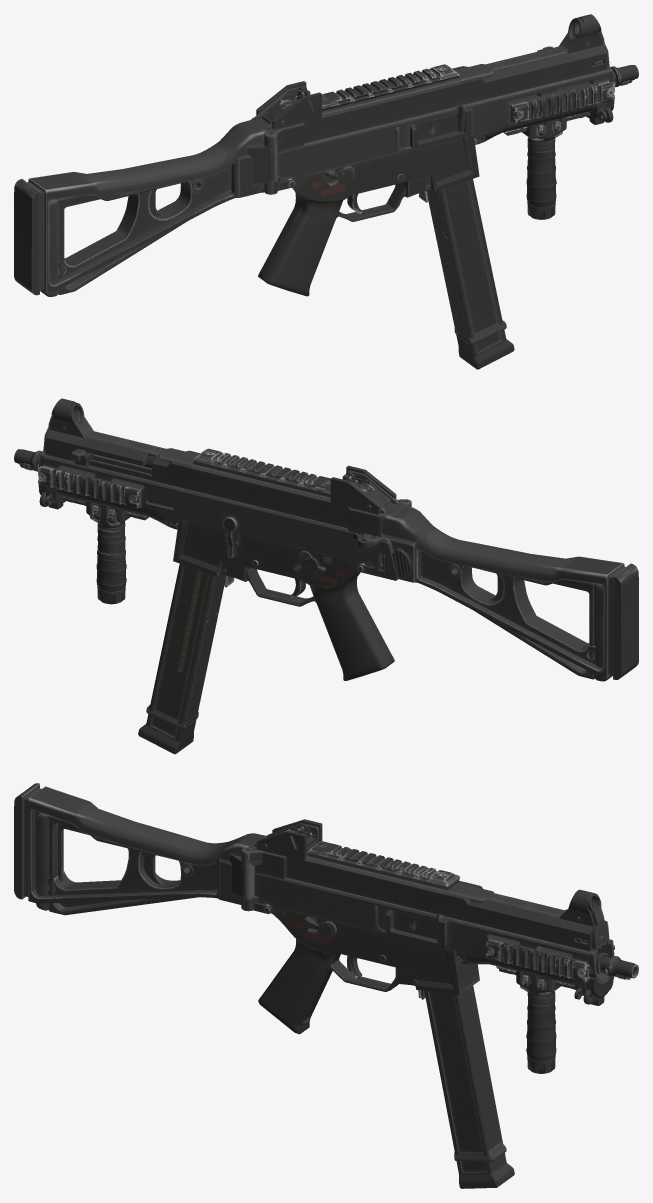
The model's file is weapon_ump45.glb.
3 views of the same model, one above another, from view 1: azimuth 30°, elevation 25°; view 2: azimuth 150°, elevation 25°; view 3: azimuth 330°, elevation 25° (orthographic).
Visible parts, largest first — view 1: weapons/models/ump45/weapon_smg_ump45.vmdl_c.body_legacy, weapons/models/ump45/weapon_smg_ump45.vmdl_c.body_hd; view 2: weapons/models/ump45/weapon_smg_ump45.vmdl_c.body_legacy, weapons/models/ump45/weapon_smg_ump45.vmdl_c.body_hd; view 3: weapons/models/ump45/weapon_smg_ump45.vmdl_c.body_legacy, weapons/models/ump45/weapon_smg_ump45.vmdl_c.body_hd.
Boxes of the visible parts, x1=… form: weapons/models/ump45/weapon_smg_ump45.vmdl_c.body_legacy: x1=14, y1=17, x2=632, y2=369; weapons/models/ump45/weapon_smg_ump45.vmdl_c.body_hd: x1=40, y1=14, x2=638, y2=344; weapons/models/ump45/weapon_smg_ump45.vmdl_c.body_legacy: x1=19, y1=402, x2=638, y2=754; weapons/models/ump45/weapon_smg_ump45.vmdl_c.body_hd: x1=14, y1=398, x2=612, y2=729; weapons/models/ump45/weapon_smg_ump45.vmdl_c.body_legacy: x1=14, y1=783, x2=630, y2=1188; weapons/models/ump45/weapon_smg_ump45.vmdl_c.body_hd: x1=35, y1=813, x2=638, y2=1161.
Bounding box in the file's own units: 29.5 × 14.67 × 2.77.
Materials: 2 (2 with a texture image).
